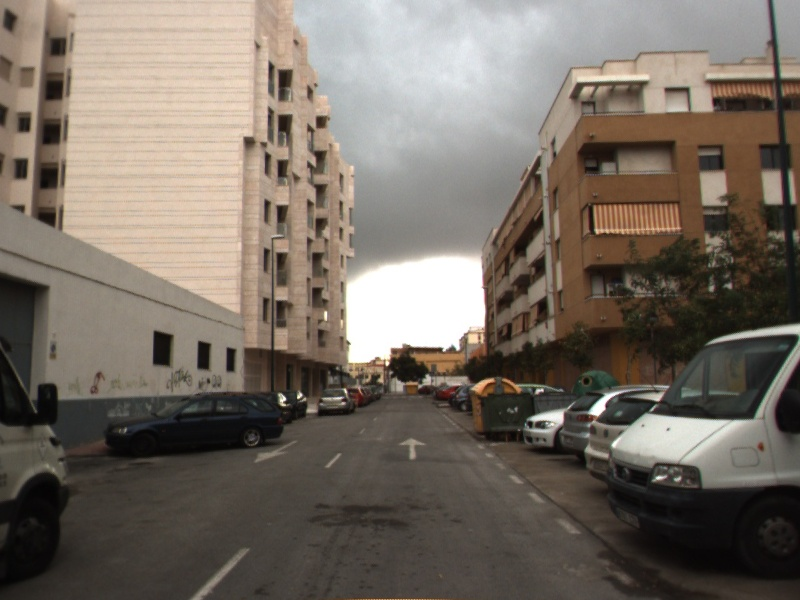STRAIGHT: (395, 435, 430, 461)
